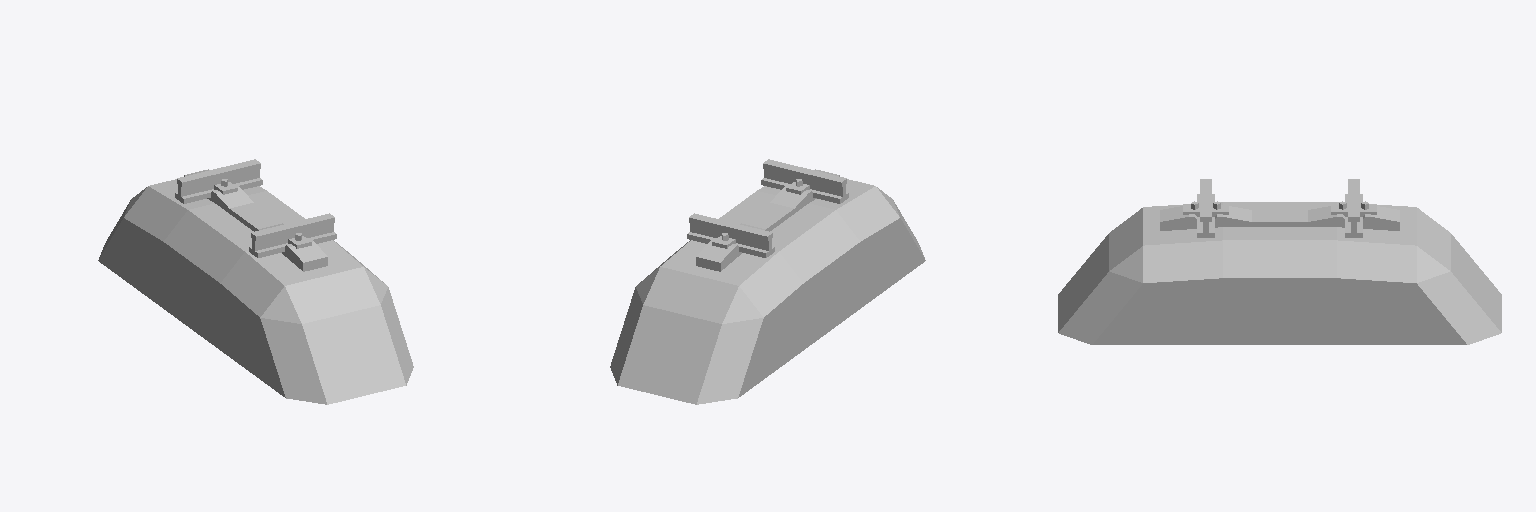
The model's file is mvp_ir_grunt_c.obj.
3 views of the same model, side by side, from view 1: azimuth 30°, elevation 25°; view 2: azimuth 150°, elevation 25°; view 3: azimuth 270°, elevation 25° (orthographic).
Parts seen in each view (by area): view 1: RAIL_BASE_mvpRail_CG, RAIL_RIGHT_mvpRail_CG, RAIL_LEFT_mvpRail_CG; view 2: RAIL_BASE_mvpRail_CG, RAIL_LEFT_mvpRail_CG, RAIL_RIGHT_mvpRail_CG; view 3: RAIL_BASE_mvpRail_CG, RAIL_RIGHT_mvpRail_CG, RAIL_LEFT_mvpRail_CG.
Boxes of the visible parts, box(x1,y1,x2,y2) form: RAIL_BASE_mvpRail_CG: box(98, 169, 413, 404); RAIL_RIGHT_mvpRail_CG: box(175, 159, 262, 203); RAIL_LEFT_mvpRail_CG: box(249, 213, 336, 257); RAIL_BASE_mvpRail_CG: box(610, 169, 925, 404); RAIL_LEFT_mvpRail_CG: box(761, 159, 848, 203); RAIL_RIGHT_mvpRail_CG: box(687, 213, 774, 257); RAIL_BASE_mvpRail_CG: box(1058, 201, 1501, 344); RAIL_RIGHT_mvpRail_CG: box(1345, 179, 1362, 237); RAIL_LEFT_mvpRail_CG: box(1197, 179, 1214, 237).
Size of the model in its own units: 1.62 by 1.41 by 4.88.